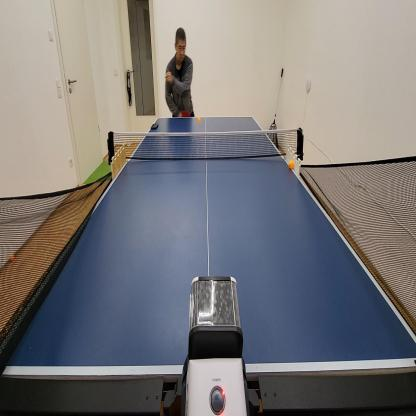Ball: (288, 159, 294, 171), (9, 252, 15, 262), (197, 114, 201, 124)
